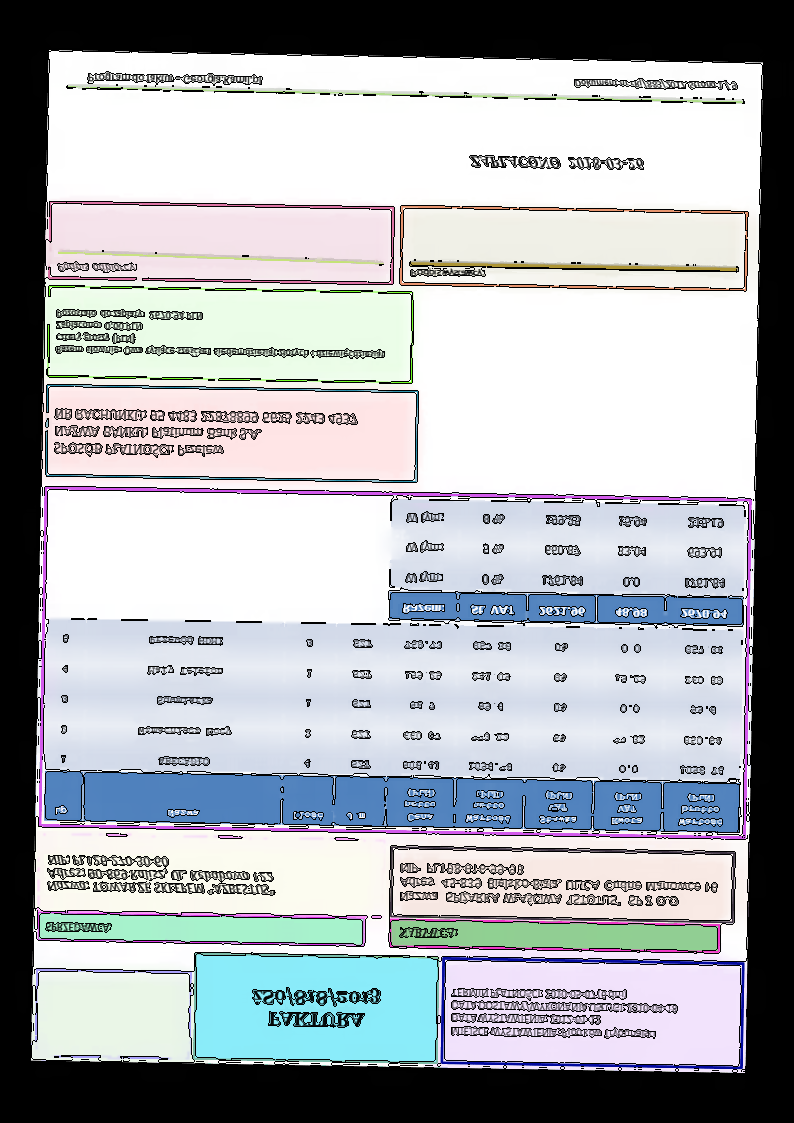Table: (42, 617, 744, 834), (387, 499, 745, 627)
TextBox: (52, 405, 360, 464), (53, 308, 387, 361), (396, 860, 720, 909), (448, 984, 679, 1044), (45, 853, 276, 896), (248, 984, 383, 1031), (466, 153, 646, 174), (86, 70, 263, 89), (573, 74, 739, 93), (55, 258, 140, 276), (408, 265, 485, 280), (42, 919, 113, 935), (397, 925, 459, 940)
